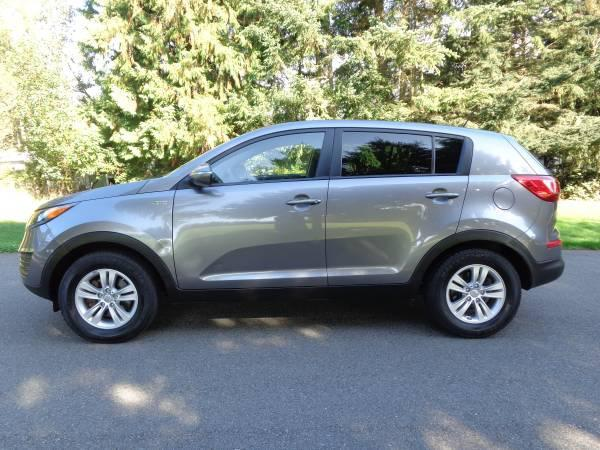Front_Bumper: (16, 222, 66, 296)
Front_Fender: (46, 193, 176, 288)
Front_Left_Door: (172, 179, 329, 289)
Front_Left_Window: (173, 129, 334, 191)
Left_Headlight: (25, 201, 75, 230)
Left_Taillight: (514, 176, 565, 204)
Rear_Bumper: (508, 200, 562, 286)
Rear_Fender: (452, 175, 540, 242)
Rear_Left_Door: (325, 176, 467, 285)
Rear_Left_Window: (329, 131, 474, 179)
Roof: (139, 121, 550, 192)
Wheel: (61, 251, 161, 342), (430, 249, 526, 336)
